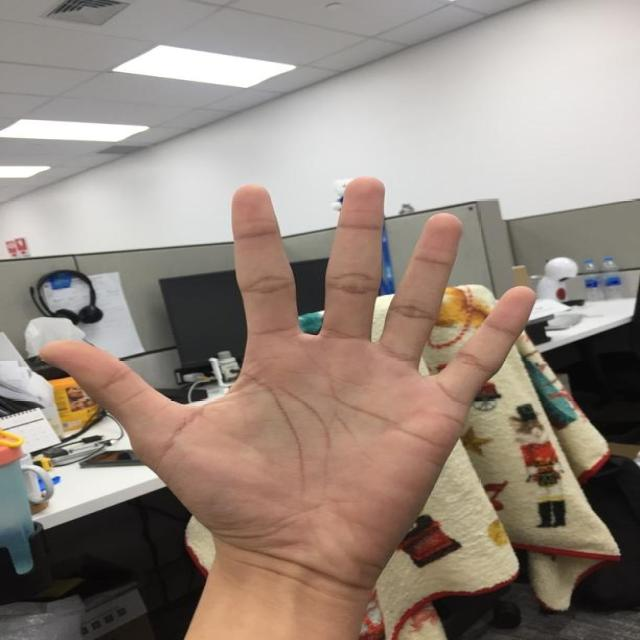hand: (37, 174, 535, 588)
